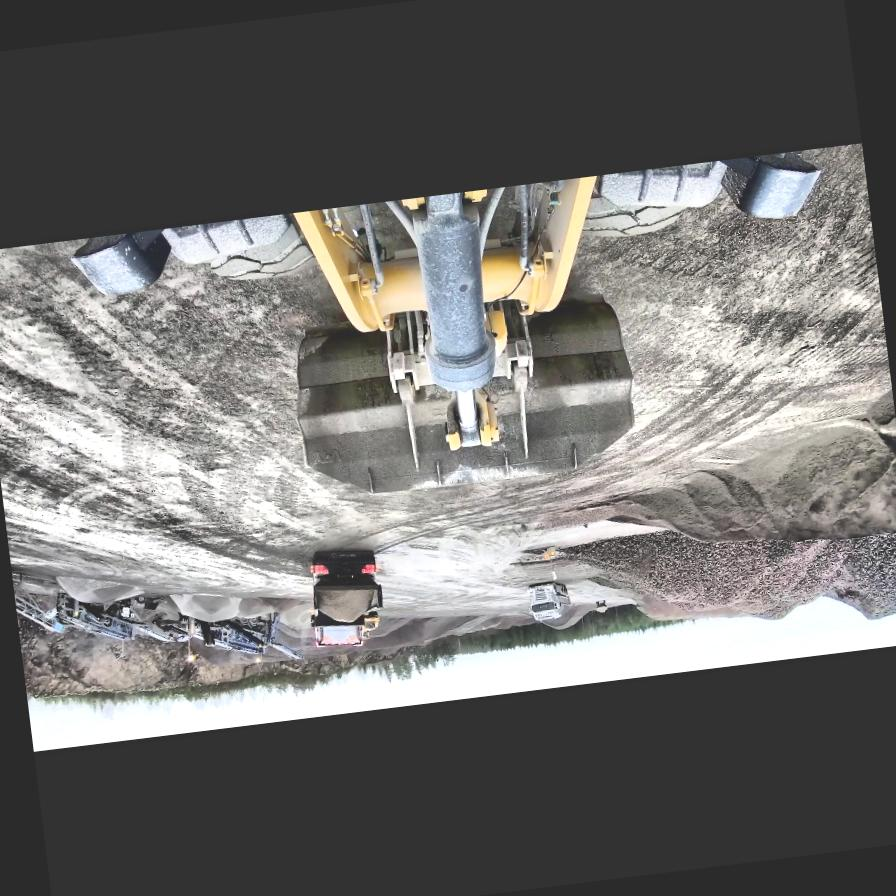anchor: (440, 384, 500, 452)
pile of gravel: (568, 495, 896, 661), (604, 388, 896, 570), (165, 579, 304, 630), (329, 612, 468, 660), (53, 566, 140, 610), (531, 603, 596, 634), (476, 612, 538, 634)
